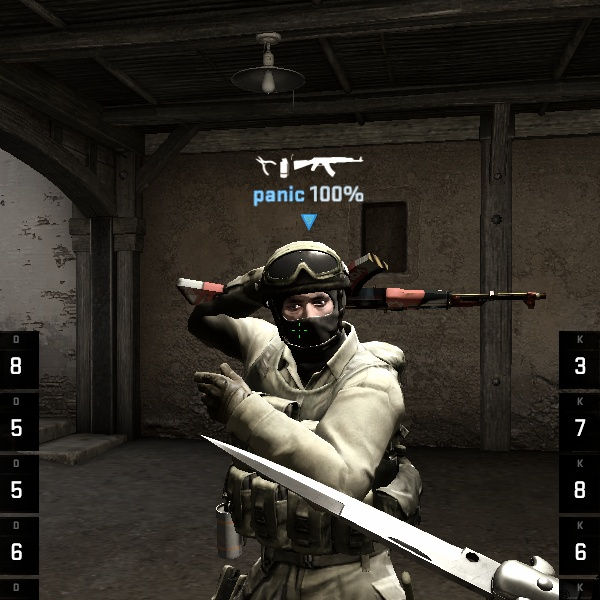ct_body: (153, 245, 447, 600)
ct_head: (233, 237, 374, 373)
